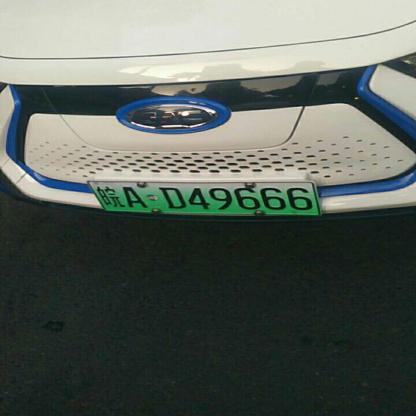lp: (88, 181, 318, 213)
